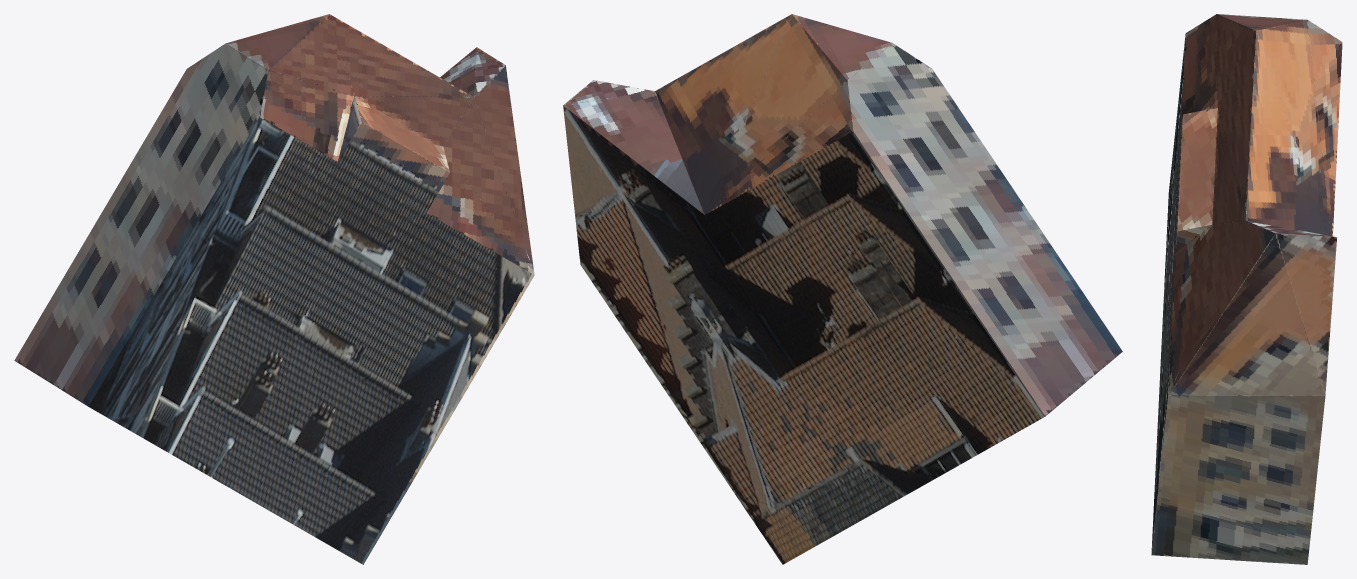
3 renders of one model, left to right at view 1: azimuth 30°, elevation 25°; view 2: azimuth 150°, elevation 25°; view 3: azimuth 270°, elevation 25°, orthographic. The views are drawn at different scales.
Parts seen in each view (by area): view 1: BAG_0599100000671599 (×5); view 2: BAG_0599100000671599 (×4); view 3: BAG_0599100000671599 (×5).
Part boxes in pixels (left/top/right/bottom): BAG_0599100000671599 (×5): left=14, top=14, right=534, bottom=564; BAG_0599100000671599 (×4): left=563, top=14, right=1122, bottom=564; BAG_0599100000671599 (×5): left=1151, top=14, right=1342, bottom=564.
Bounding box in the file's own units: 22.16 × 23.44 × 7.49.
Materials: 5 (5 with a texture image).
